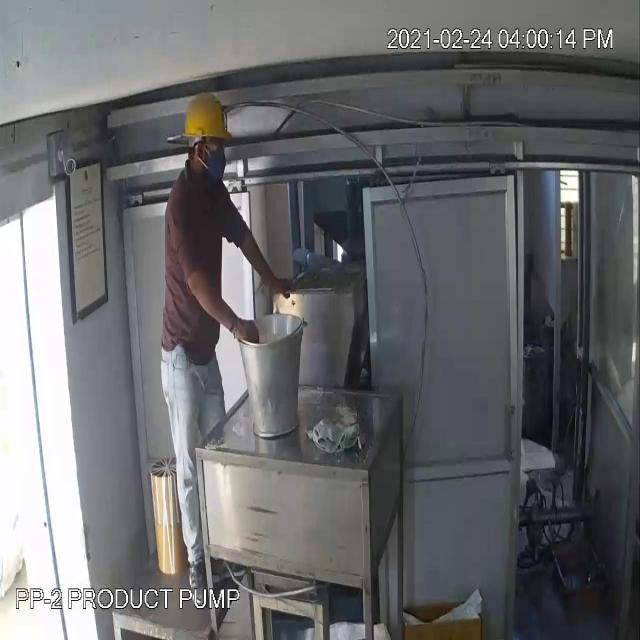helmet: (182, 87, 236, 158)
